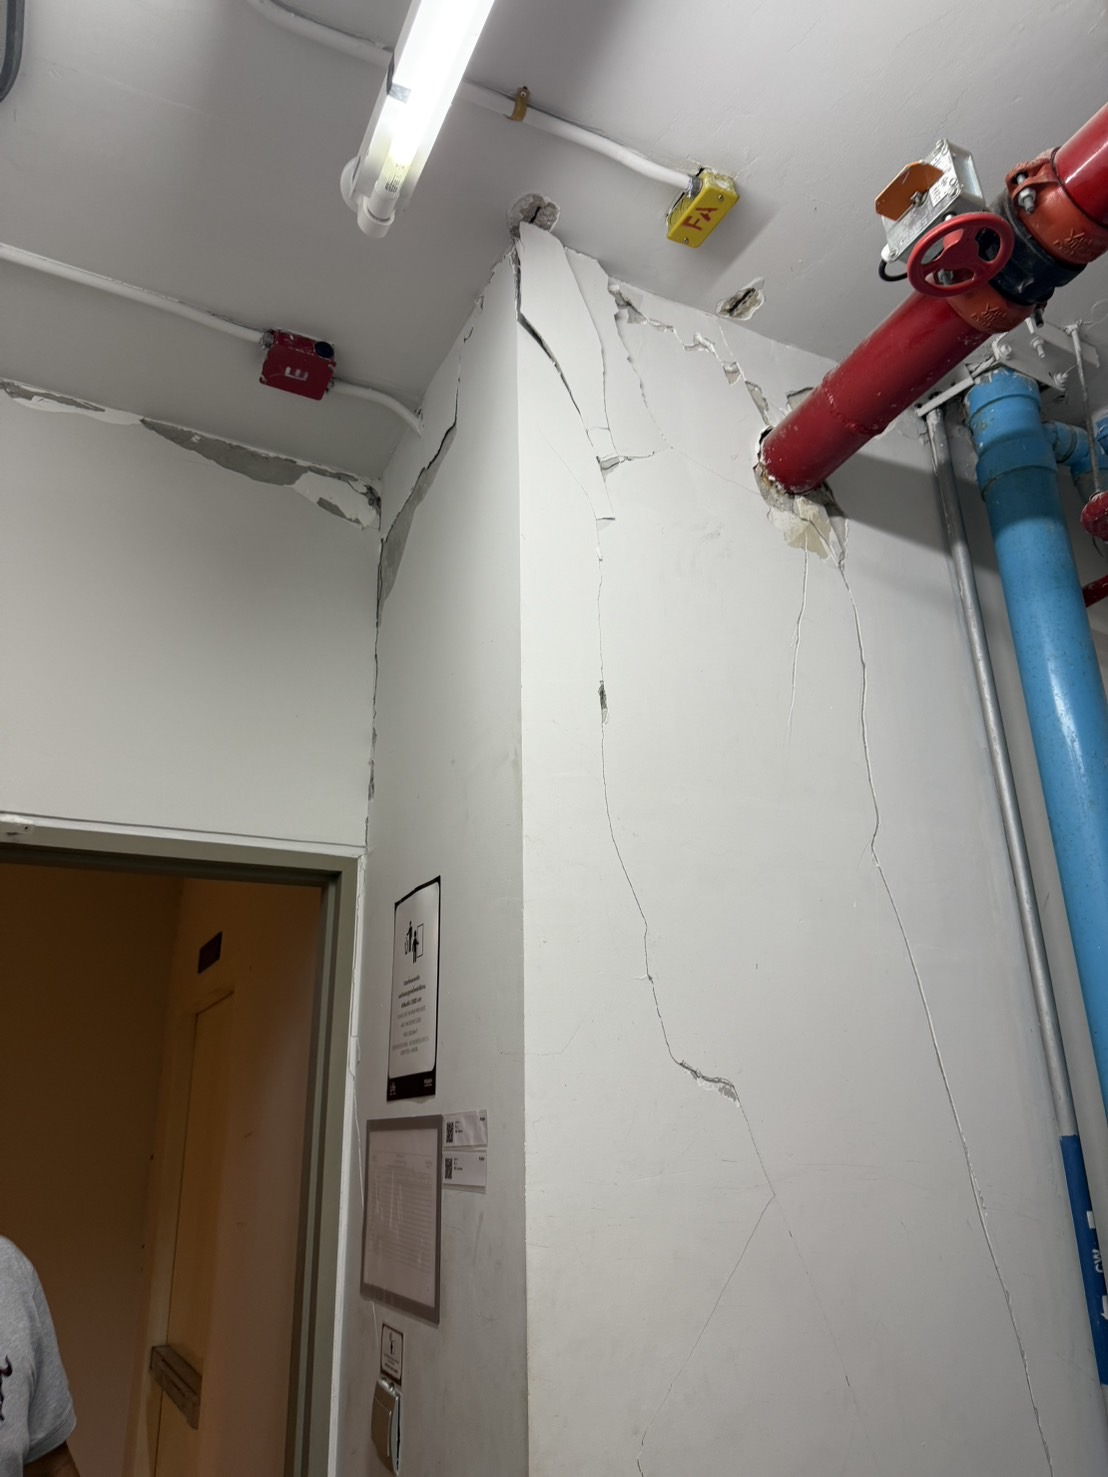Medium: (486, 230, 763, 1122)
